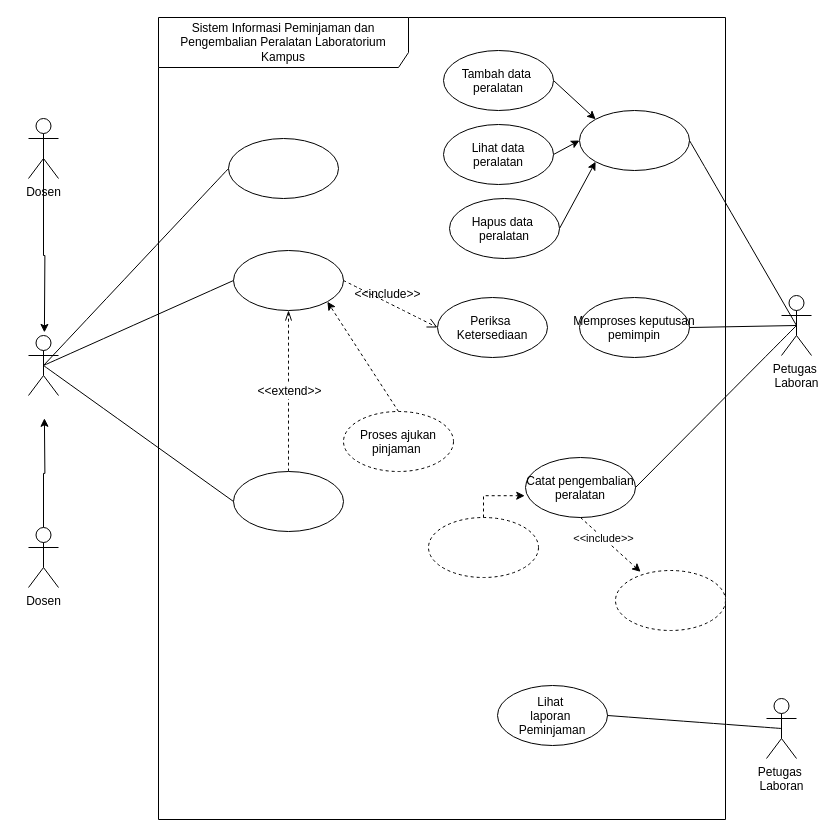
Image size: 837x837. Some labels were removed from this diagram. The box of each missing label's shape, as (x1, y1, x2, y2) in pixels:
Ajukan Peminjaman: (232, 250, 344, 310)
Cetak Bukti Pengajuan: (232, 470, 344, 532)
Kelola Data Peralatan: (578, 110, 690, 170)
Lihat Ketersediaan Peralatan: (228, 138, 338, 198)
Pemimpin: (28, 334, 58, 396)
Periksa kondisi peralatan: (614, 570, 726, 630)
Proses catat pengembalian peralatan: (428, 516, 538, 578)
